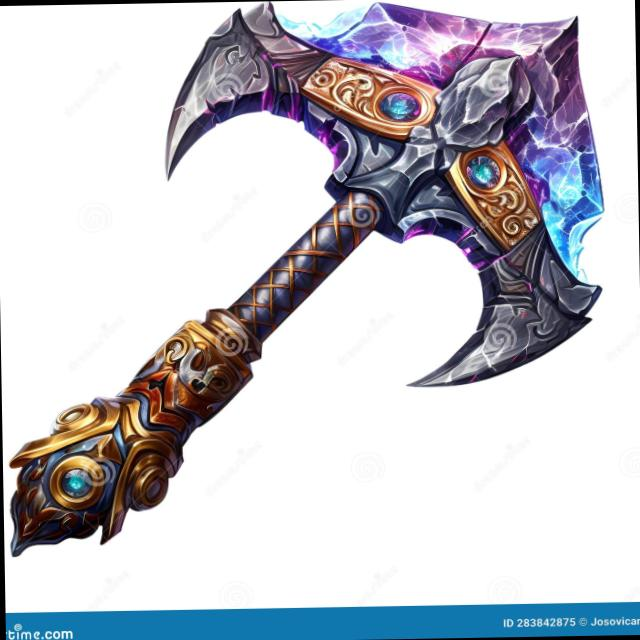Gun: (0, 0, 632, 578)
